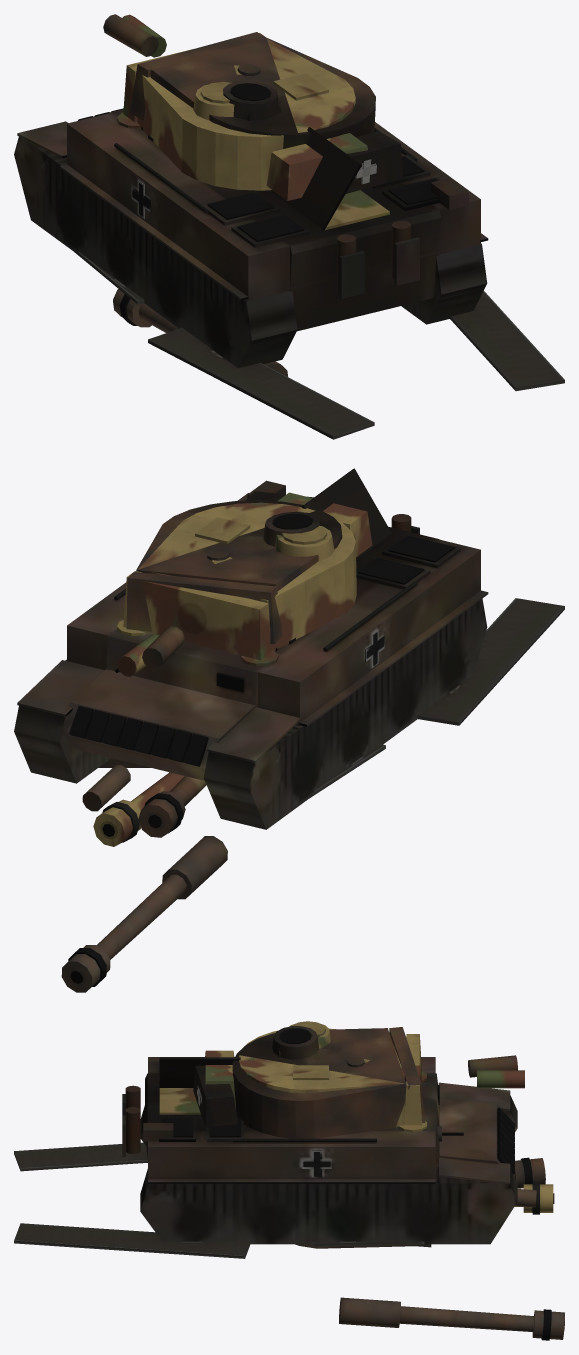
File: tiger.glb
3 renders of one model, top to bottom at view 1: azimuth 30°, elevation 25°; view 2: azimuth 150°, elevation 25°; view 3: azimuth 270°, elevation 25°, orthographic. The views are drawn at different scales.
Visible parts, largest first — view 1: hull_blown, turret_ok, turret_ko, hull_trackL, hull_trackR, hull_ok, gun_blown; view 2: hull_blown, turret_ok, turret_ko, hull_trackL, gun_blown, gun_ok, gun_ko, turret_blown; view 3: hull_blown, turret_ko, turret_ok, hull_trackR, gun_blown, hull_trackL, hull_ok, gun_ko, gun_ok, turret_blown.
Part boxes in pixels (x1=…): hull_blown: x1=14, y1=108, x2=488, y2=368; turret_ok: x1=122, y1=14, x2=367, y2=200; turret_ko: x1=103, y1=14, x2=403, y2=193; hull_trackL: x1=72, y1=247, x2=374, y2=439; hull_trackR: x1=450, y1=291, x2=564, y2=391; hull_ok: x1=117, y1=112, x2=389, y2=230; gun_blown: x1=113, y1=289, x2=287, y2=376; hull_blown: x1=14, y1=468, x2=488, y2=829; turret_ok: x1=117, y1=492, x2=372, y2=676; turret_ko: x1=126, y1=491, x2=342, y2=668; hull_trackL: x1=308, y1=598, x2=564, y2=798; gun_blown: x1=61, y1=836, x2=227, y2=992; gun_ok: x1=93, y1=772, x2=184, y2=846; gun_ko: x1=138, y1=776, x2=206, y2=837; turret_blown: x1=82, y1=758, x2=150, y2=811; hull_blown: x1=122, y1=1057, x2=517, y2=1244; turret_ko: x1=193, y1=1026, x2=517, y2=1138; turret_ok: x1=205, y1=1021, x2=524, y2=1126; hull_trackR: x1=14, y1=1223, x2=424, y2=1258; gun_blown: x1=339, y1=1297, x2=564, y2=1340; hull_trackL: x1=14, y1=1142, x2=147, y2=1171; hull_ok: x1=159, y1=1071, x2=426, y2=1132; gun_ko: x1=513, y1=1157, x2=545, y2=1188; gun_ok: x1=514, y1=1182, x2=554, y2=1214; turret_blown: x1=295, y1=1189, x2=536, y2=1248.
Size of the model in its own units: 4.76 by 5.29 by 9.2.
21 materials, 21 textured.
